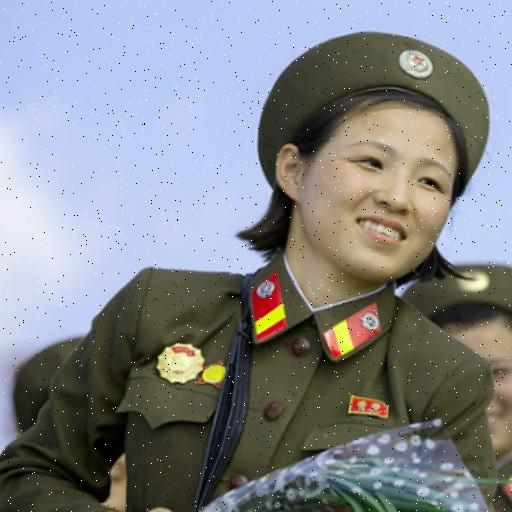north army: (77, 9, 512, 512)
